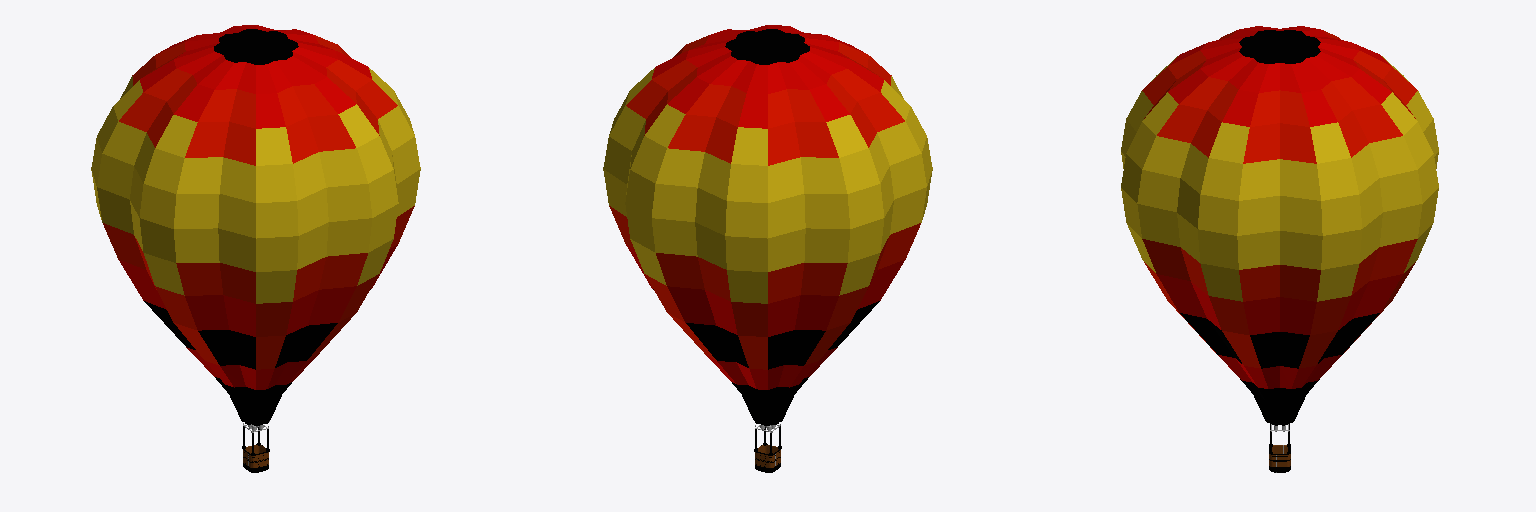
Rendered from Air_Balloon.obj.
The picture shows the model from 3 angles: view 1: azimuth 30°, elevation 25°; view 2: azimuth 150°, elevation 25°; view 3: azimuth 270°, elevation 25°; orthographic projection.
Parts seen in each view (by area): view 1: Sphere_Sphere.002, Circle; view 2: Sphere_Sphere.002, Circle; view 3: Sphere_Sphere.002, Circle.
Boxes of the visible parts, x1,y1,x2,y2 form: Sphere_Sphere.002: [91, 25, 420, 425]; Circle: [242, 421, 269, 472]; Sphere_Sphere.002: [603, 25, 932, 425]; Circle: [754, 424, 781, 472]; Sphere_Sphere.002: [1121, 26, 1438, 425]; Circle: [1269, 424, 1290, 472].
Size of the model in its own units: 22.42 by 33.16 by 22.42.